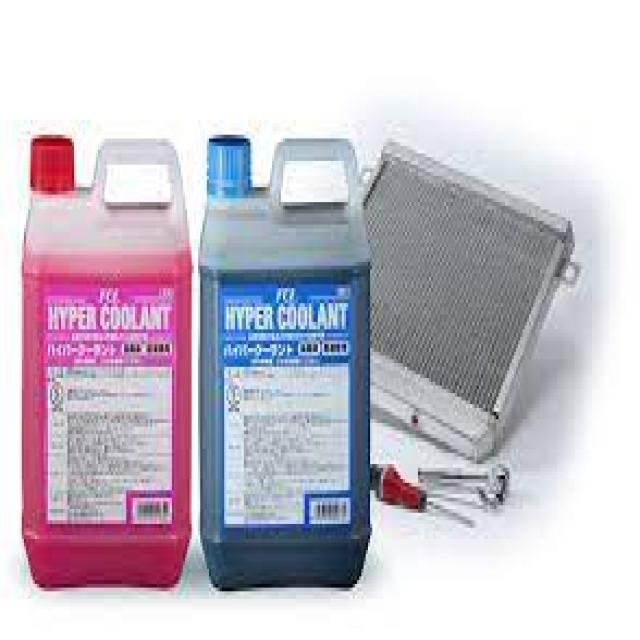coolant: (201, 117, 375, 598), (20, 134, 193, 595)
